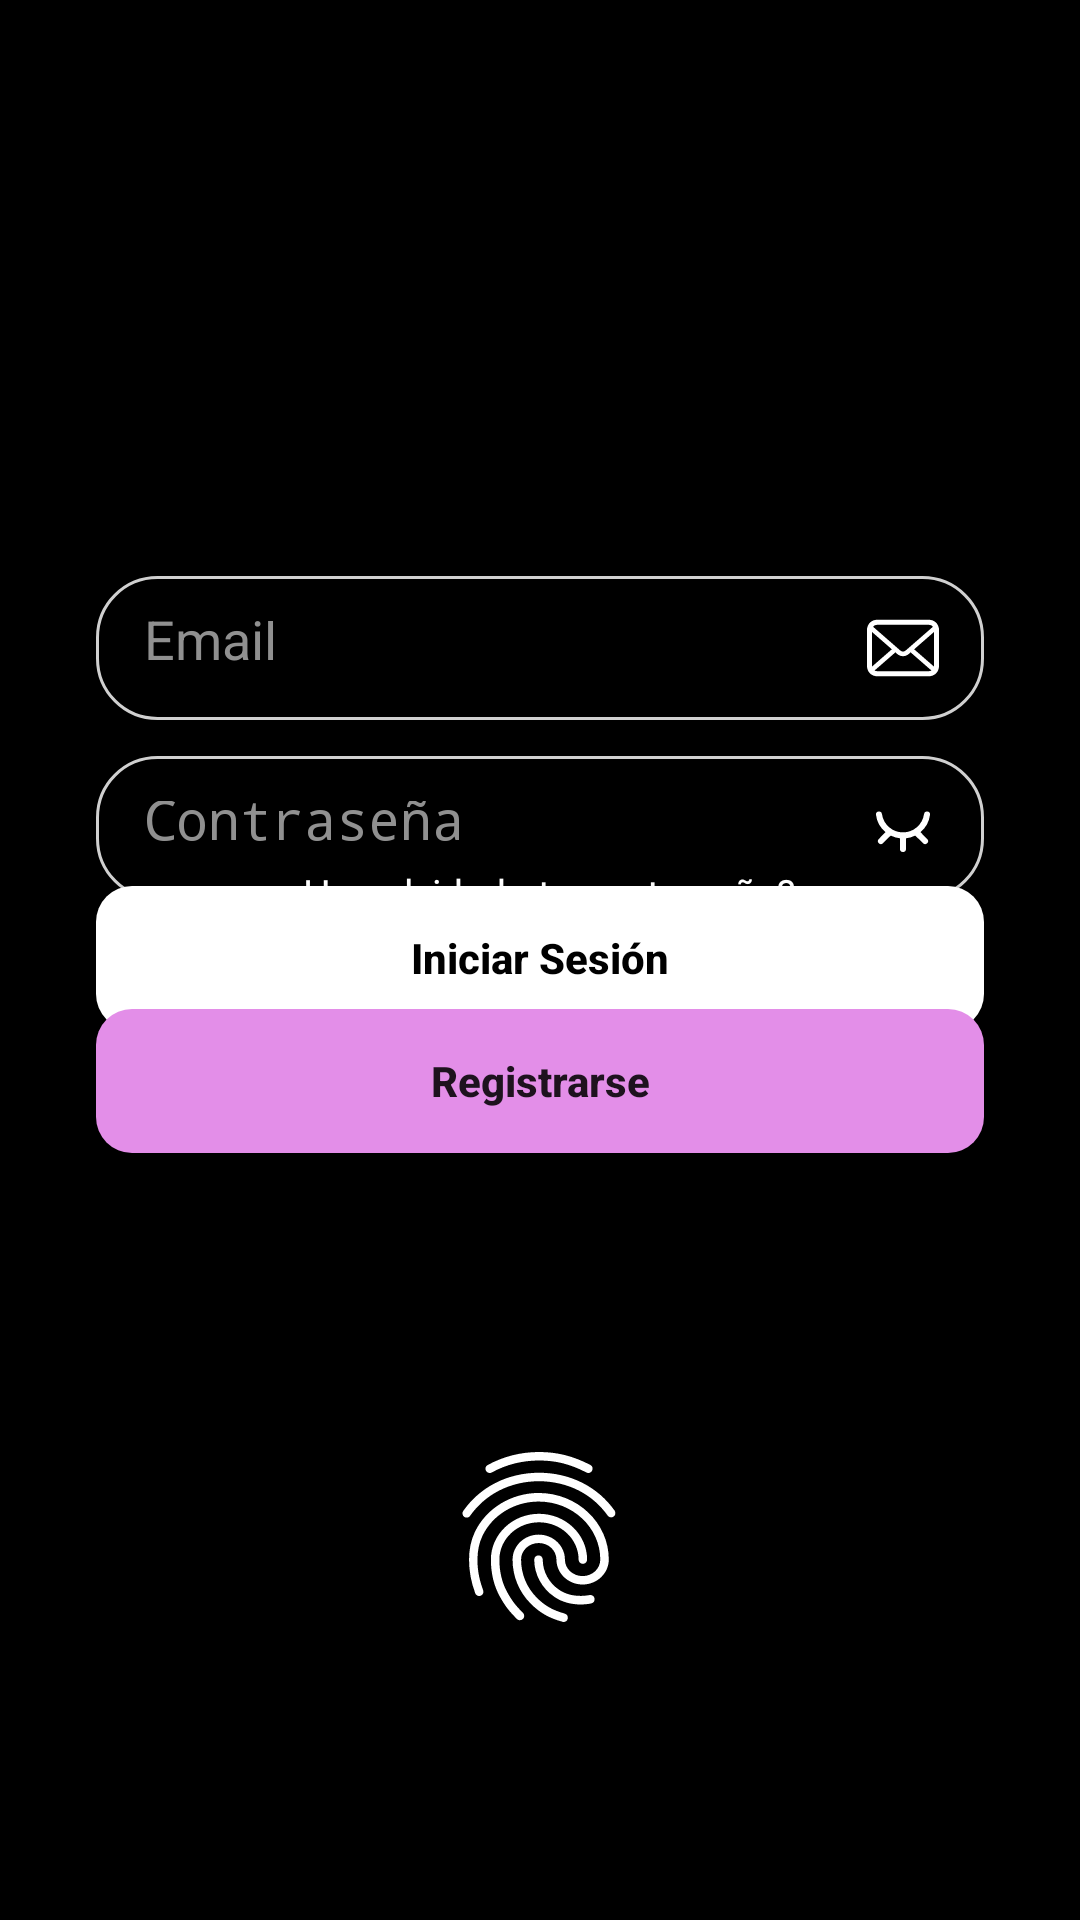

Icons on this 1080w x 1920h Android screen, each with the point to tap as (x=x, y=y):
Autenticación biométrica: (x=539, y=1537)
